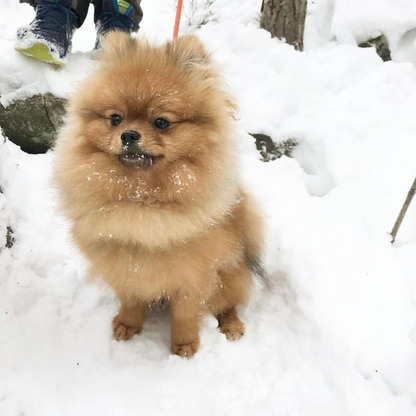Pomeranian: (49, 26, 274, 365)
